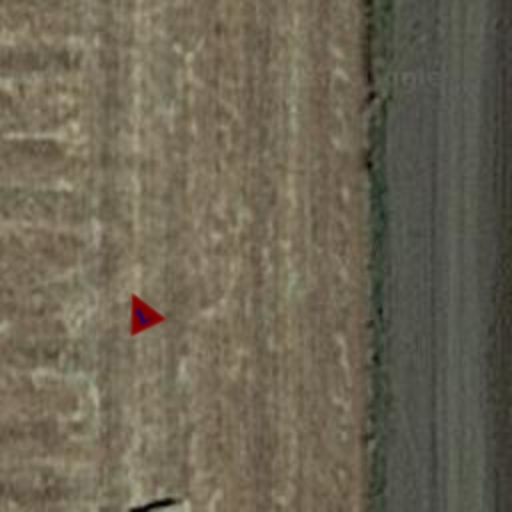triangle: (112, 282, 168, 338)
